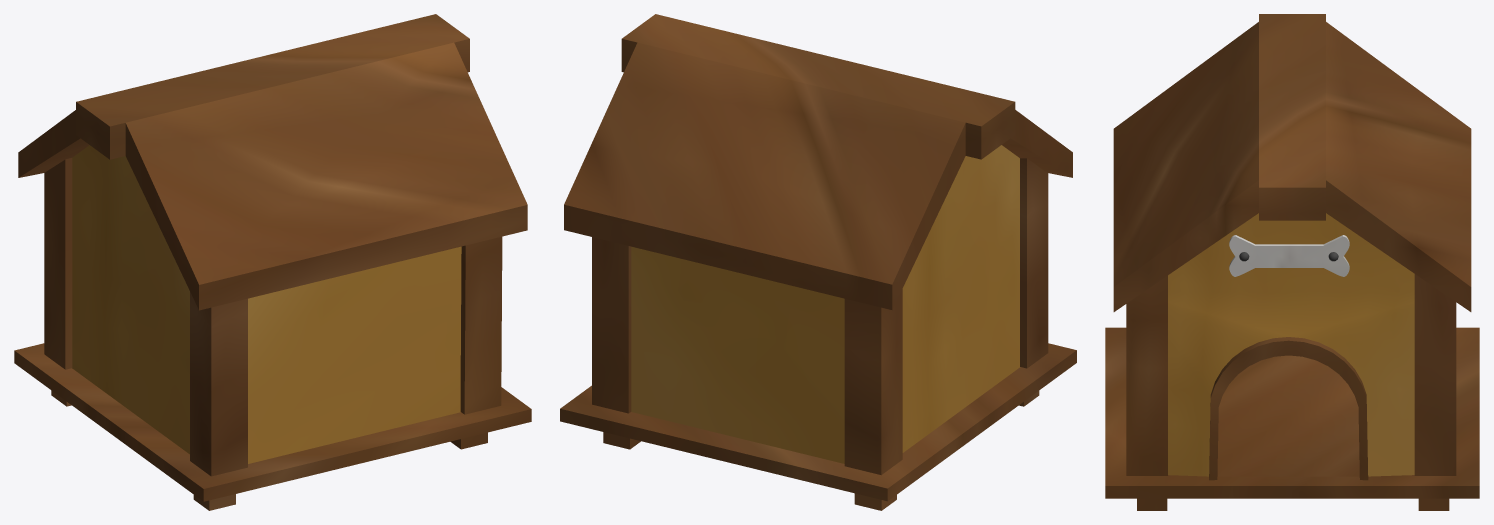
Rendered from köpke kulübesi.fbx.
3 views of the same model, side by side, from view 1: azimuth 30°, elevation 25°; view 2: azimuth 150°, elevation 25°; view 3: azimuth 270°, elevation 25° (orthographic).
Visible parts, largest first — view 1: Plane.001; view 2: Plane.001; view 3: Plane.001.
Boxes of the visible parts, left/top/right/bottom form: Plane.001: left=14, top=14, right=531, bottom=510; Plane.001: left=560, top=14, right=1076, bottom=510; Plane.001: left=1105, top=14, right=1479, bottom=510.
Size of the model in its own units: 101 by 92.99 by 91.6.
Materials: 1 (1 with a texture image).
